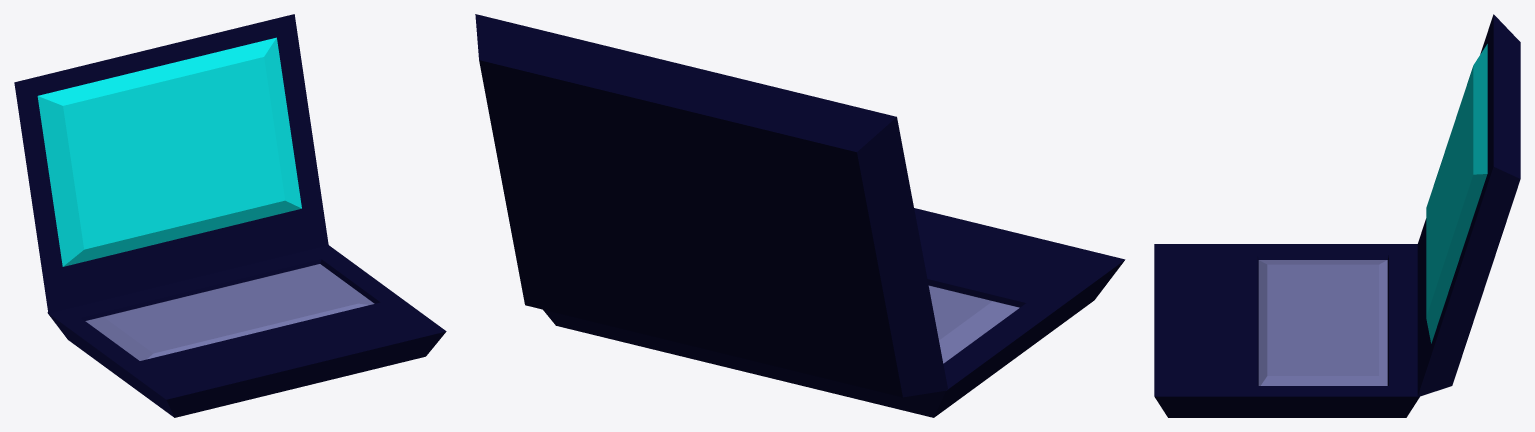
3 renders of one model, left to right at view 1: azimuth 30°, elevation 25°; view 2: azimuth 150°, elevation 25°; view 3: azimuth 270°, elevation 25°, orthographic. The views are drawn at different scales.
Visible parts, largest first — view 1: Cube.001, Cube; view 2: Cube.001, Cube; view 3: Cube, Cube.001.
Boxes of the visible parts, bbox=[...] form: Cube.001: bbox=[14, 14, 328, 314]; Cube: bbox=[47, 245, 446, 417]; Cube.001: bbox=[475, 14, 947, 397]; Cube: bbox=[543, 208, 1125, 417]; Cube: bbox=[1154, 244, 1420, 417]; Cube.001: bbox=[1417, 14, 1520, 397].
Bounding box in the file's own units: 200 × 158 × 203.
